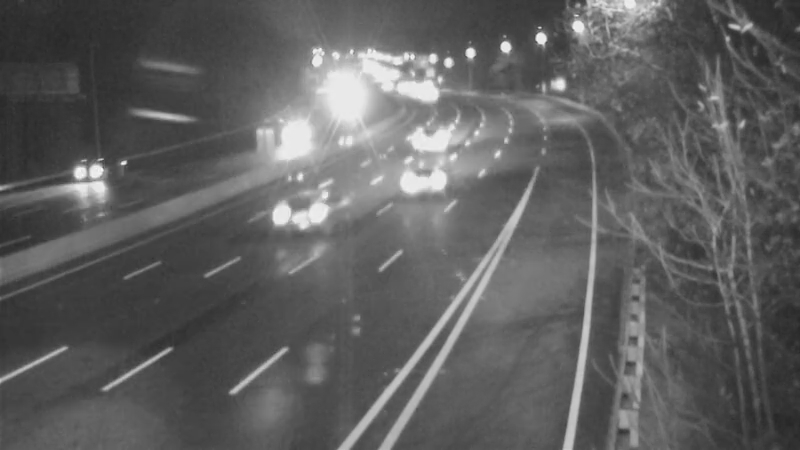vehicle: (376, 146, 456, 226), (252, 176, 332, 256), (52, 133, 132, 213), (407, 74, 457, 124), (405, 117, 455, 167), (260, 108, 310, 158), (320, 84, 370, 134)
